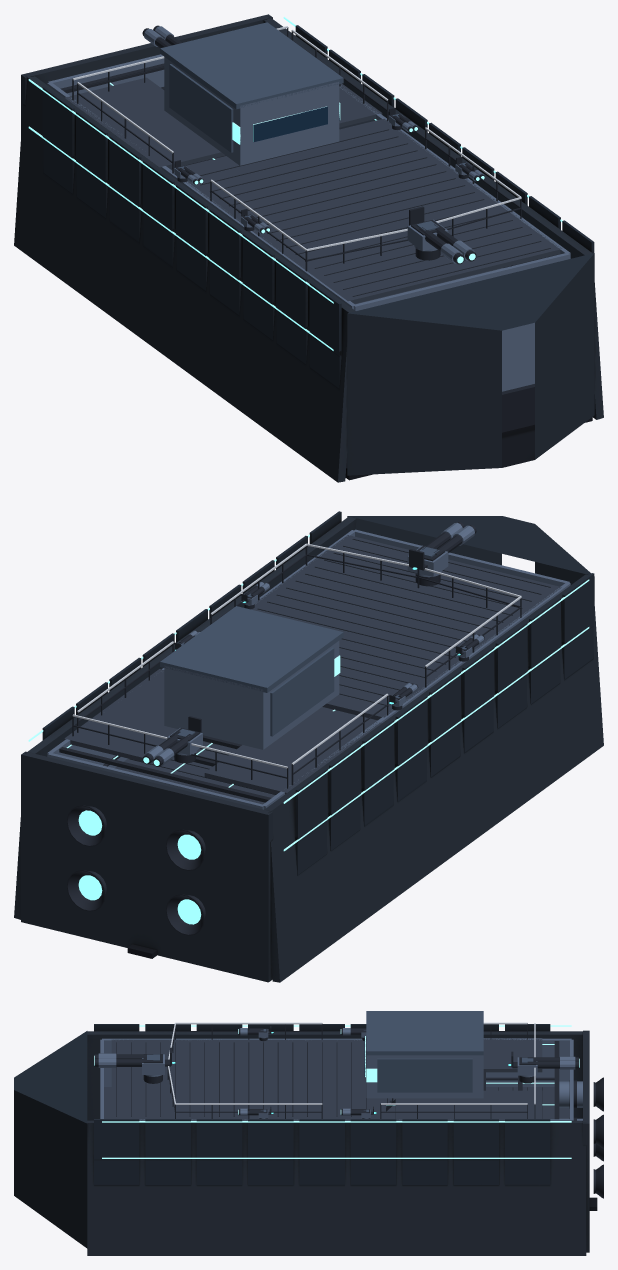
Rendered from nave_acorazado.fbx.
3 views of the same model, one above another, from view 1: azimuth 30°, elevation 25°; view 2: azimuth 150°, elevation 25°; view 3: azimuth 270°, elevation 25° (orthographic). The views are drawn at different scales.
Visible parts, largest first — view 1: Acorazado_Casco, Acorazado_Cubierta_Principal, Acorazado_Techos_03, Acorazado_Torre_Mando, Acorazado_Paredes_Int_06, Acorazado_Canon_Frontal, Acorazado_Paredes_Int_03, Acorazado_Neon_01, Acorazado_Ventanas_Torre, Acorazado_Paredes_Int_05, Acorazado_Barandilla_05, Acorazado_Paredes_Int_04 (+5 smaller); view 2: Acorazado_Casco, Acorazado_Cubierta_Principal, Acorazado_Torre_Mando, Acorazado_Techos_03, Acorazado_Paredes_Int_06, Acorazado_Cubierta_Artilleria, Acorazado_Canon_Frontal, Acorazado_Neon_02, Acorazado_Techos_02, Acorazado_Neon_01, Acorazado_Canon_Trasero, Acorazado_Paredes_Int_05 (+11 smaller); view 3: Acorazado_Casco, Acorazado_Cubierta_Principal, Acorazado_Techos_03, Acorazado_Torre_Mando, Acorazado_Paredes_Int_05, Acorazado_Neon_01, Acorazado_Canon_Frontal, Acorazado_Cubierta_Artilleria, Acorazado_Canon_Trasero, Acorazado_Motor_04, Acorazado_Barandilla_03, Acorazado_Barandilla_02 (+4 smaller).
Part boxes in pixels (x1,y1,x2,y2): Acorazado_Casco: (14, 14, 603, 482); Acorazado_Cubierta_Principal: (64, 77, 561, 303); Acorazado_Techos_03: (160, 22, 343, 109); Acorazado_Torre_Mando: (164, 57, 339, 165); Acorazado_Paredes_Int_06: (48, 54, 569, 331); Acorazado_Canon_Frontal: (407, 206, 476, 264); Acorazado_Paredes_Int_03: (502, 323, 534, 391); Acorazado_Neon_01: (28, 16, 562, 350); Acorazado_Ventanas_Torre: (240, 106, 339, 144); Acorazado_Paredes_Int_05: (47, 82, 354, 309); Acorazado_Barandilla_05: (306, 197, 521, 263); Acorazado_Paredes_Int_04: (339, 85, 570, 267); Acorazado_Casco: (14, 511, 603, 982); Acorazado_Cubierta_Principal: (64, 535, 561, 794); Acorazado_Torre_Mando: (164, 641, 339, 749); Acorazado_Techos_03: (160, 606, 343, 692); Acorazado_Paredes_Int_06: (48, 529, 569, 809); Acorazado_Cubierta_Artilleria: (115, 707, 377, 804); Acorazado_Canon_Frontal: (407, 522, 476, 586); Acorazado_Neon_02: (78, 810, 201, 924); Acorazado_Techos_02: (59, 735, 271, 802); Acorazado_Neon_01: (28, 534, 589, 851); Acorazado_Canon_Trasero: (142, 716, 202, 766); Acorazado_Paredes_Int_05: (262, 582, 570, 809); Acorazado_Casco: (14, 1024, 597, 1255); Acorazado_Cubierta_Principal: (111, 1038, 542, 1120); Acorazado_Techos_03: (366, 1011, 483, 1055); Acorazado_Torre_Mando: (366, 1055, 483, 1098); Acorazado_Paredes_Int_05: (102, 1038, 571, 1086); Acorazado_Neon_01: (102, 1025, 579, 1158); Acorazado_Canon_Frontal: (94, 1047, 171, 1083); Acorazado_Cubierta_Artilleria: (104, 1087, 569, 1119); Acorazado_Canon_Trasero: (511, 1051, 578, 1083); Acorazado_Motor_04: (559, 1077, 603, 1111); Acorazado_Barandilla_03: (380, 1103, 527, 1118); Acorazado_Barandilla_02: (175, 1022, 322, 1039).
Size of the model in its own units: 9.03 by 7.37 by 22.51.
16 materials, 2 textured.
